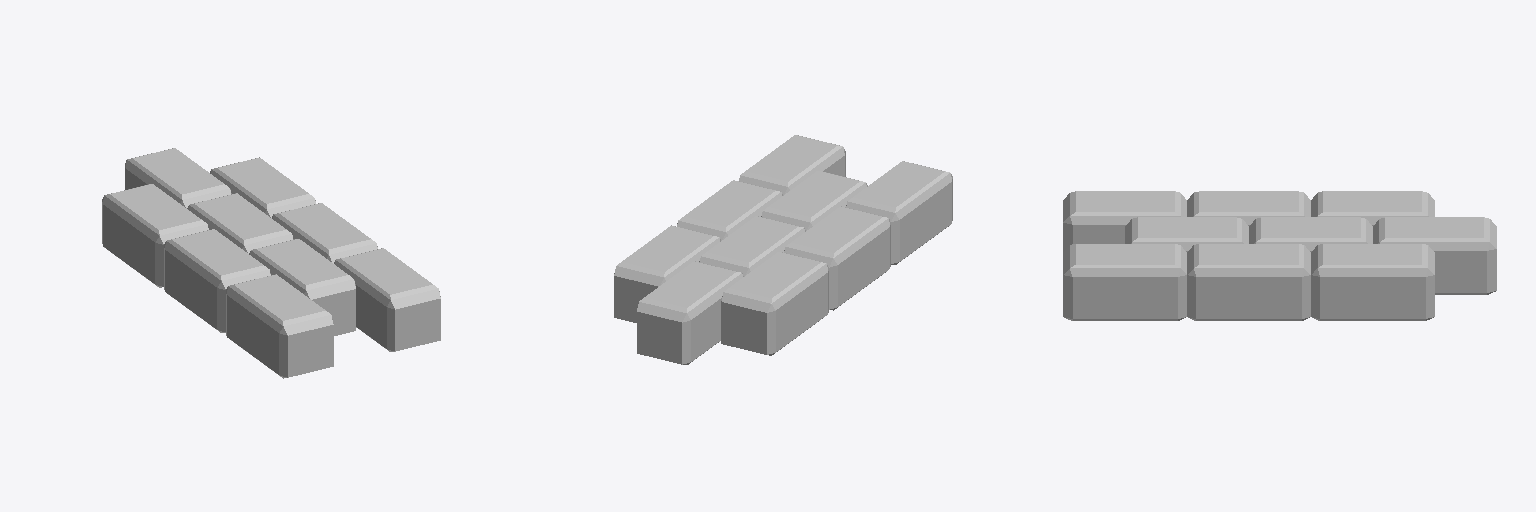
Rendered from Flagstone.obj.
3 views of the same model, side by side, from view 1: azimuth 30°, elevation 25°; view 2: azimuth 150°, elevation 25°; view 3: azimuth 270°, elevation 25° (orthographic).
Visible parts, largest first — view 1: Cube.008; view 2: Cube.008; view 3: Cube.008.
Boxes of the visible parts, x1,y1,x2,y2 form: Cube.008: [102, 148, 440, 378]; Cube.008: [614, 135, 952, 364]; Cube.008: [1063, 191, 1496, 320].
Size of the model in its own units: 3 by 1 by 7.